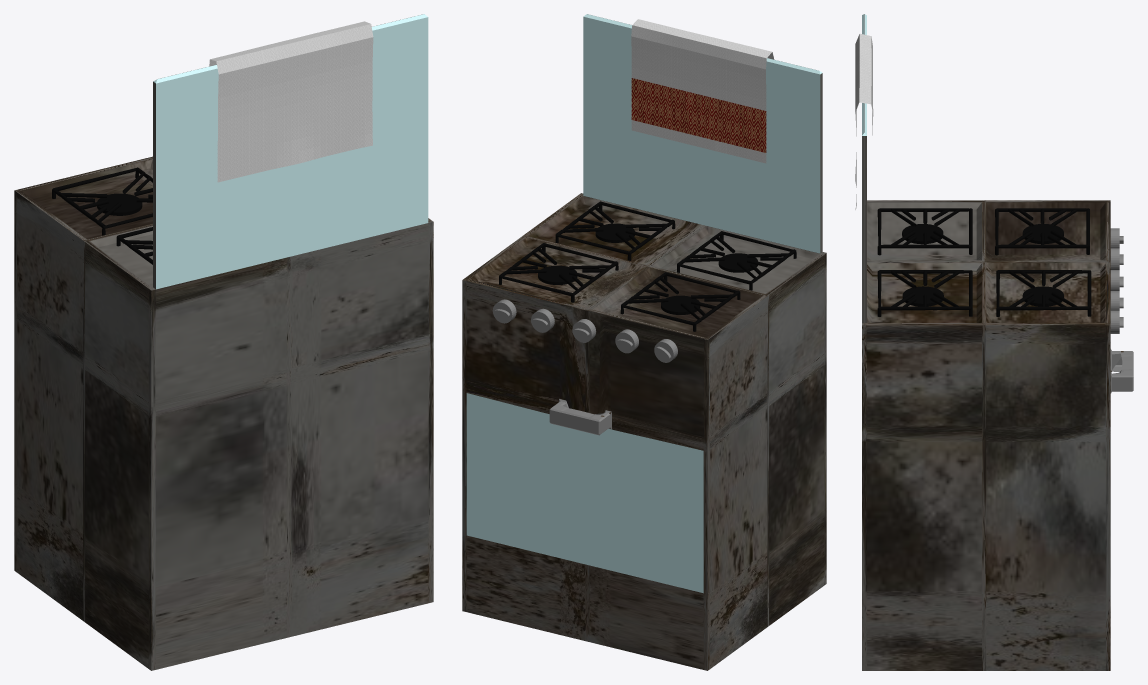
The model's file is Fogao.fbx.
3 renders of one model, left to right at view 1: azimuth 30°, elevation 25°; view 2: azimuth 150°, elevation 25°; view 3: azimuth 270°, elevation 25°, orthographic. The views are drawn at different scales.
Parts seen in each view (by area): view 1: Cube, Cube.006, Plane, Cube.008, Cube.004, Cylinder.001; view 2: Cube, Cube.005, Cube.006, Plane, Plane.001, Cube.008, Cube.001, Cube.004, Cube.003, Cube.002, Cube.007, Cylinder.002 (+3 smaller); view 3: Cube, Cube.004, Cube.003, Cube.001, Cube.002, Plane, Cube.007, Cylinder.003, Cylinder.002, Cylinder, Cylinder.001.
Part boxes in pixels (<box>): Cube: <box>14,16,433,670</box>; Cube.006: <box>153,14,428,289</box>; Plane: <box>209,21,373,182</box>; Cube.008: <box>17,214,82,350</box>; Cube.004: <box>52,167,152,235</box>; Cylinder.001: <box>97,193,142,215</box>; Cube: <box>462,14,826,670</box>; Cube.005: <box>466,393,703,593</box>; Cube.006: <box>583,14,822,253</box>; Plane: <box>631,19,774,163</box>; Plane.001: <box>631,78,766,152</box>; Cube.008: <box>710,315,767,434</box>; Cube.001: <box>499,243,618,302</box>; Cube.004: <box>620,272,740,331</box>; Cube.003: <box>677,231,796,290</box>; Cube.002: <box>555,201,675,260</box>; Cube.007: <box>549,399,611,435</box>; Cylinder.002: <box>538,265,577,284</box>; Cube: <box>862,14,1123,670</box>; Cube.004: <box>995,208,1089,255</box>; Cube.003: <box>877,208,972,255</box>; Cube.001: <box>996,270,1091,316</box>; Cube.002: <box>877,270,972,316</box>; Plane: <box>855,33,873,209</box>; Cube.007: <box>1110,349,1133,393</box>; Cylinder.003: <box>902,286,943,306</box>; Cylinder.002: <box>1022,286,1063,306</box>; Cylinder: <box>902,224,943,244</box>; Cylinder.001: <box>1022,224,1063,244</box>.
Size of the model in its own units: 200 by 403 by 188.
6 materials, 4 textured.
